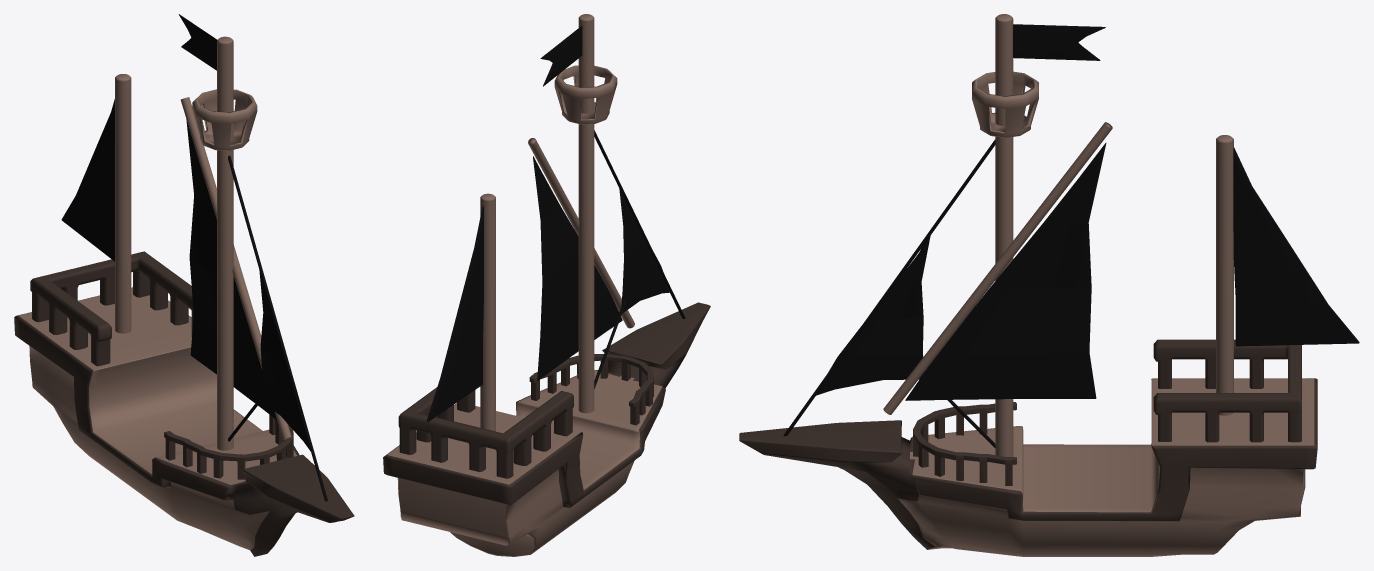
Rendered from Bateau_LV1.fbx.
The picture shows the model from 3 angles, left to right: view 1: azimuth 30°, elevation 25°; view 2: azimuth 150°, elevation 25°; view 3: azimuth 270°, elevation 25°; orthographic projection. The views are drawn at different scales.
Parts seen in each view (by area): view 1: Bateau_pirate; view 2: Bateau_pirate; view 3: Bateau_pirate.
Boxes of the visible parts, x1,y1,x2,y2 form: Bateau_pirate: [14, 14, 354, 556]; Bateau_pirate: [383, 14, 710, 556]; Bateau_pirate: [739, 14, 1359, 556].
Bounding box in the file's own units: 5.3 × 18.8 × 19.88.
